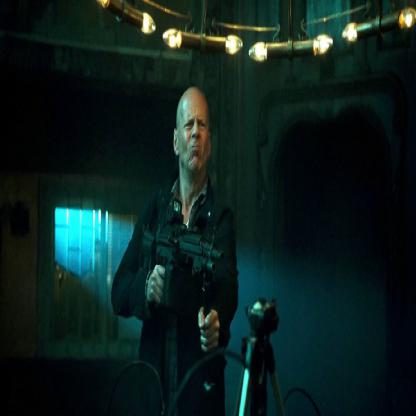Guns: (135, 192, 226, 321)
